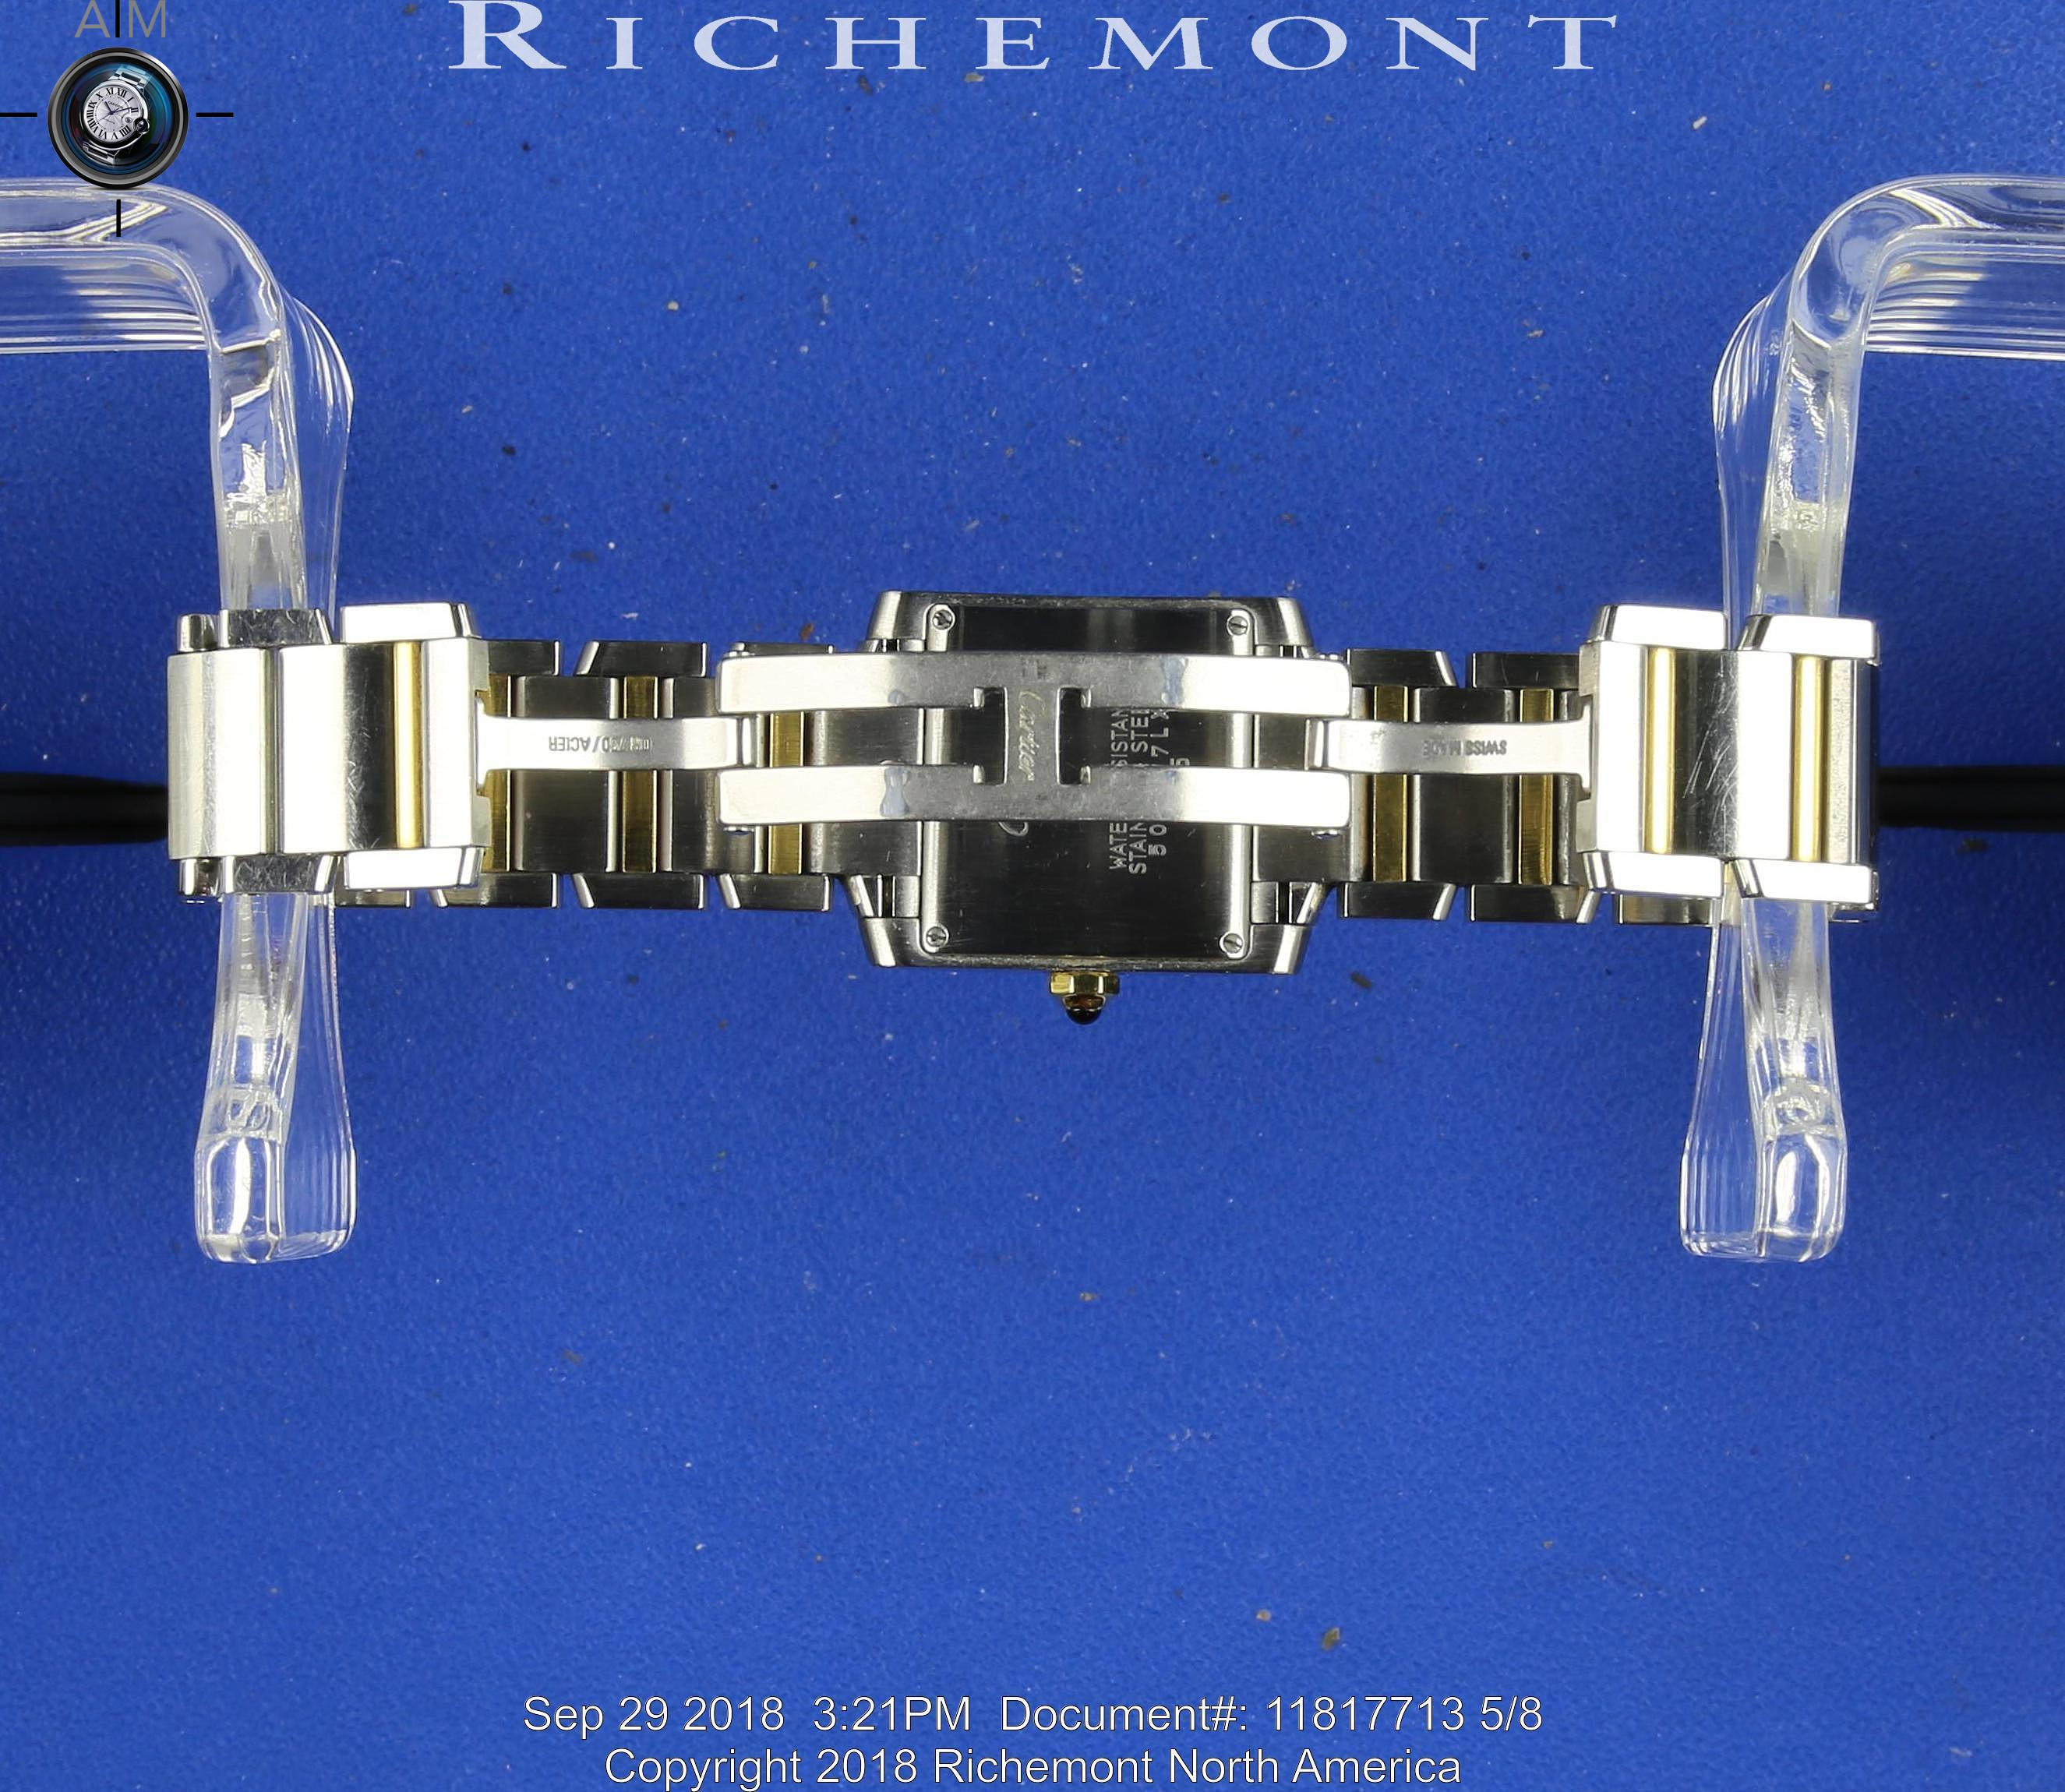watchback: (855, 581, 1310, 990)
